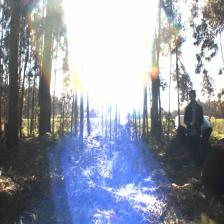trunktrack_idkeyframe: (6, 34, 20, 144), (38, 38, 52, 136), (151, 78, 160, 137), (79, 96, 84, 149), (142, 94, 148, 134), (86, 102, 91, 134)
